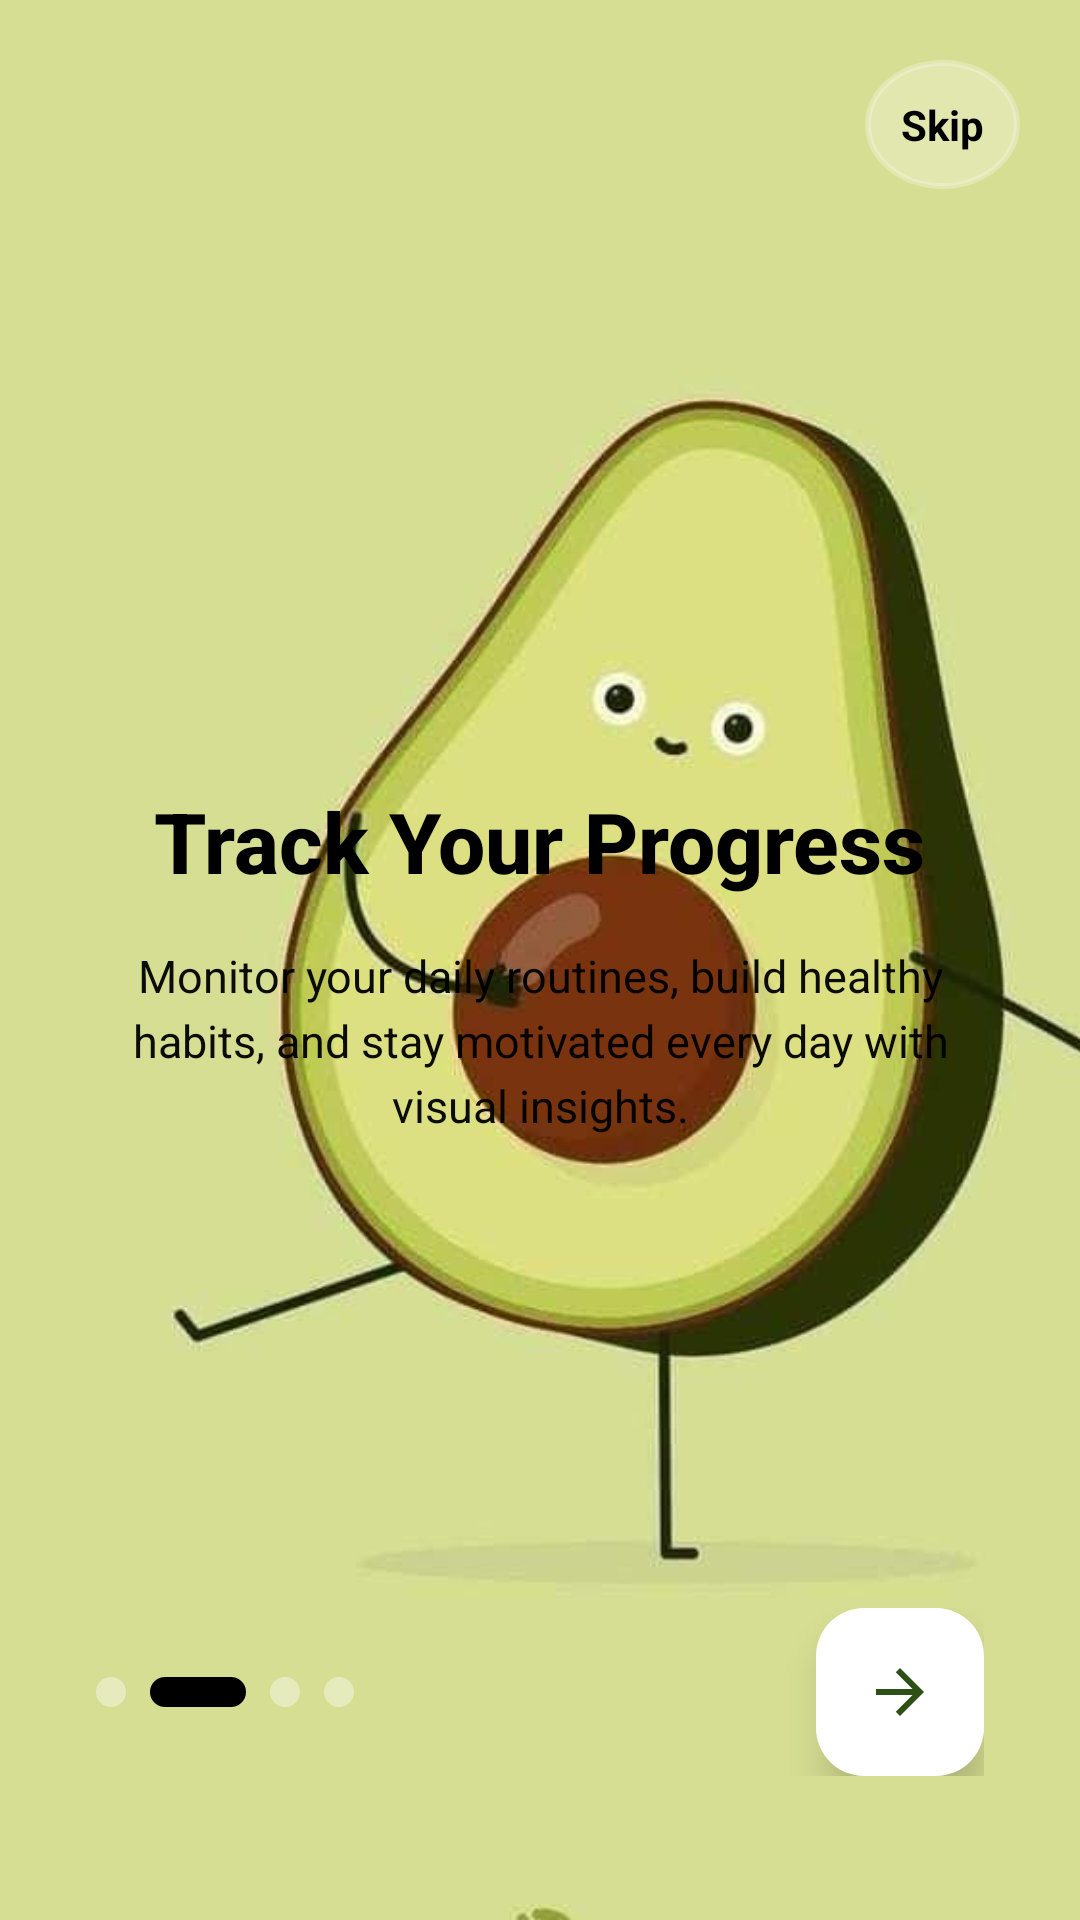

Icons on this 1080×1920 Android screen, each with the point to tap as point (x, y):
Next: point (900, 1692)
